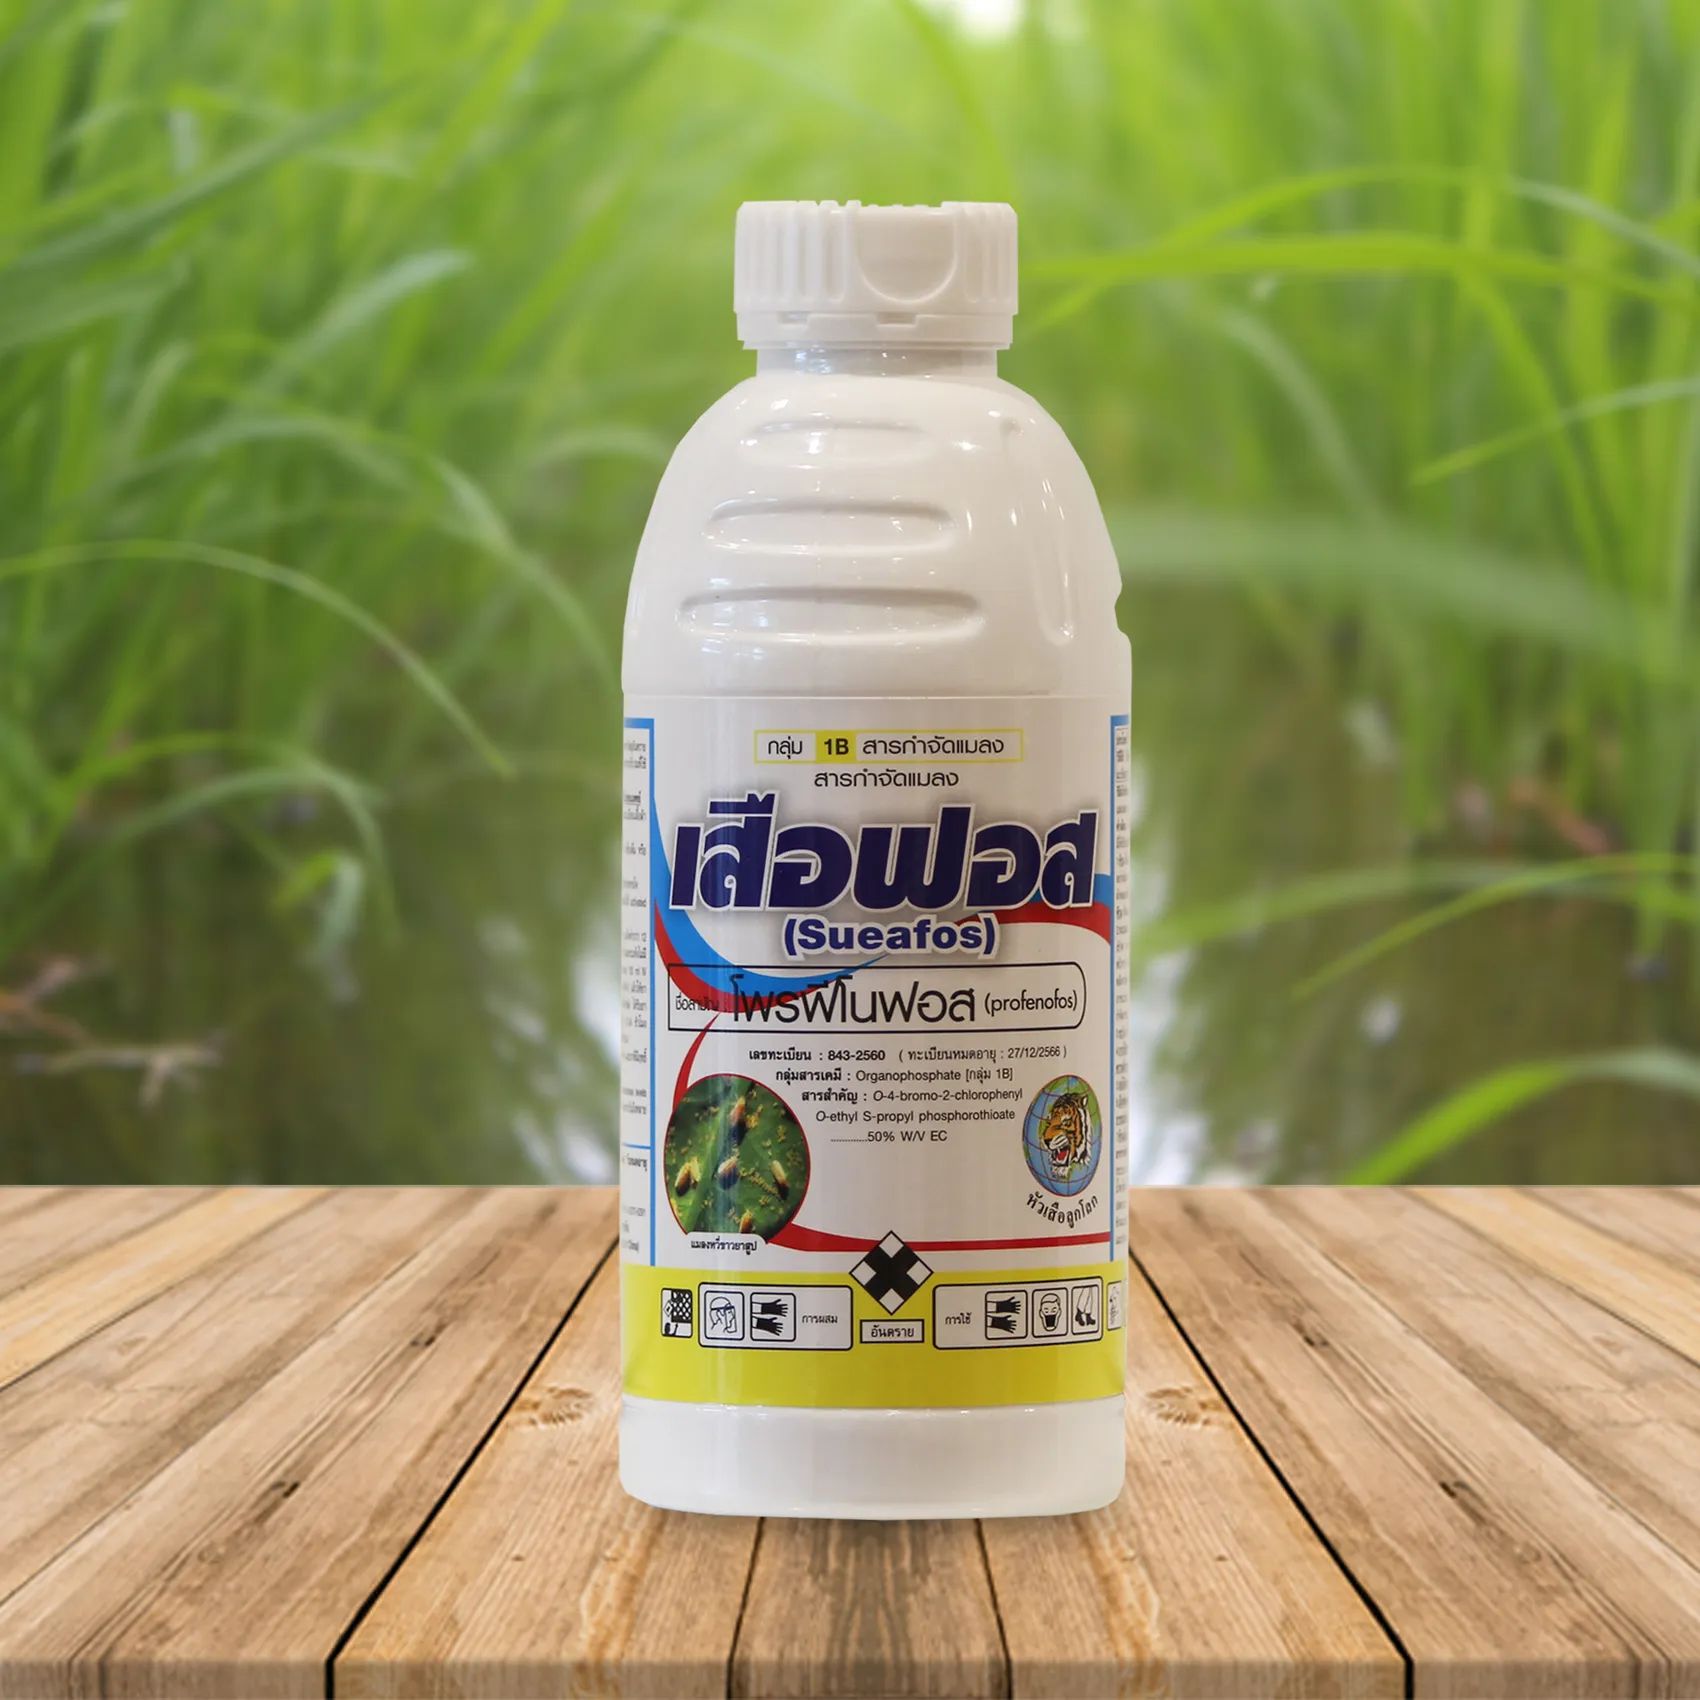Insecticide: (567, 131, 1175, 1552)
